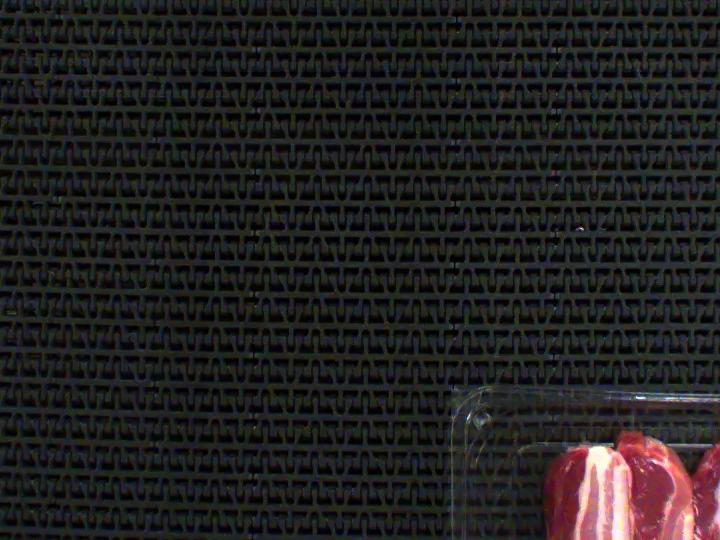packaging-error: (604, 401, 647, 436)
